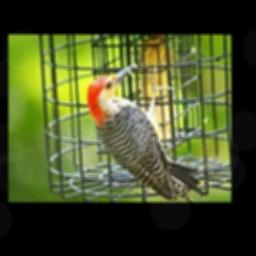Woodpecker: (86, 62, 200, 200)
